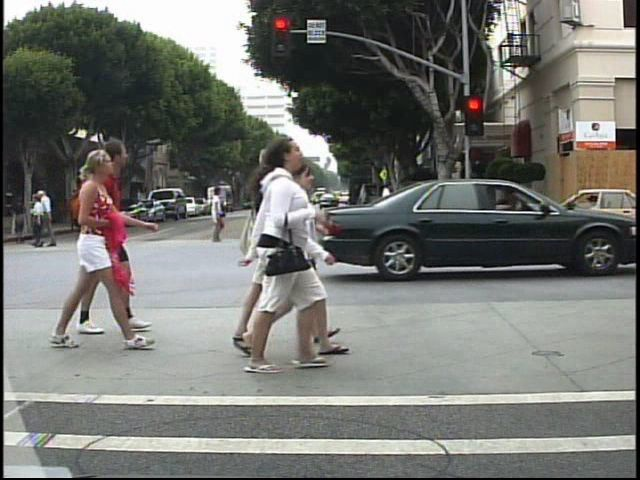person: (242, 136, 326, 378), (48, 146, 132, 355), (281, 159, 358, 372), (225, 146, 303, 354), (98, 139, 145, 336), (377, 177, 405, 240), (205, 184, 227, 247), (266, 184, 289, 242), (29, 195, 52, 250), (39, 186, 59, 249), (358, 187, 373, 223)
